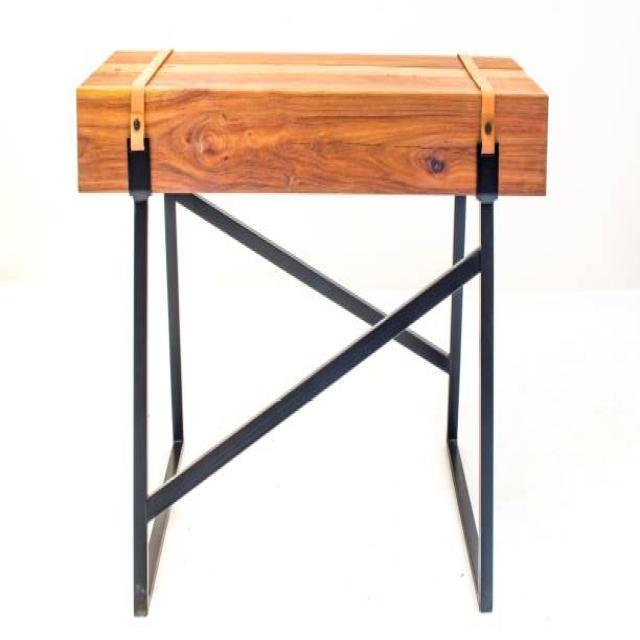table: (75, 46, 549, 616)
